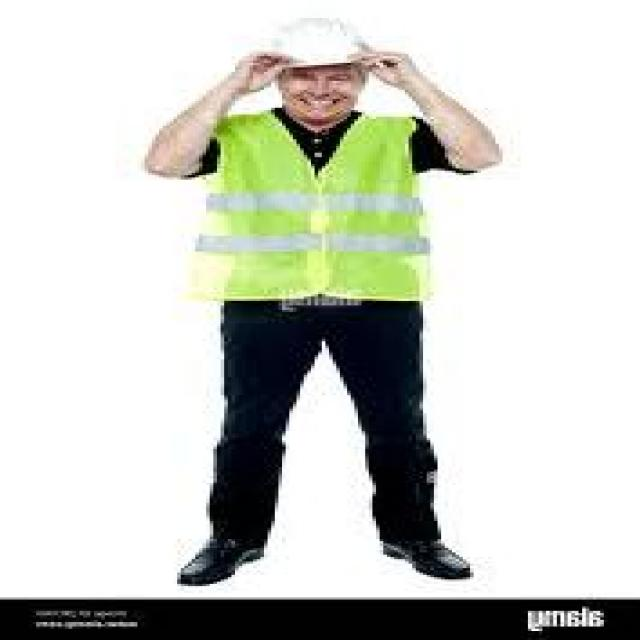Reflective-Jacket: (181, 112, 445, 312)
Safety-Helmet: (260, 9, 376, 72)
